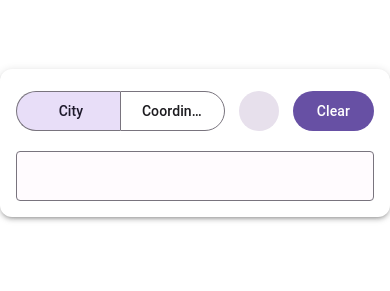
SearchBar Component › Coordinates Mode › switches to the coordinate form when the coordinates toggle is pressed
Click the button with aria-label "Coordinates search": click(172, 111) [121,92,224,130]
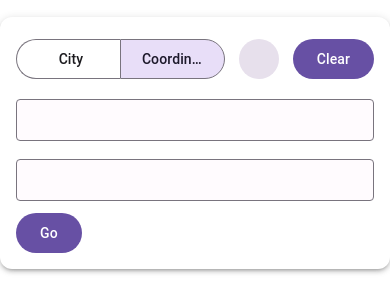
Expected: the field named "longitude" is shown, [16,161,374,201]
Result: the field named "latitude" is shown at [16,101,374,141]
Result: the button "Go" is shown at [16,213,82,253]
